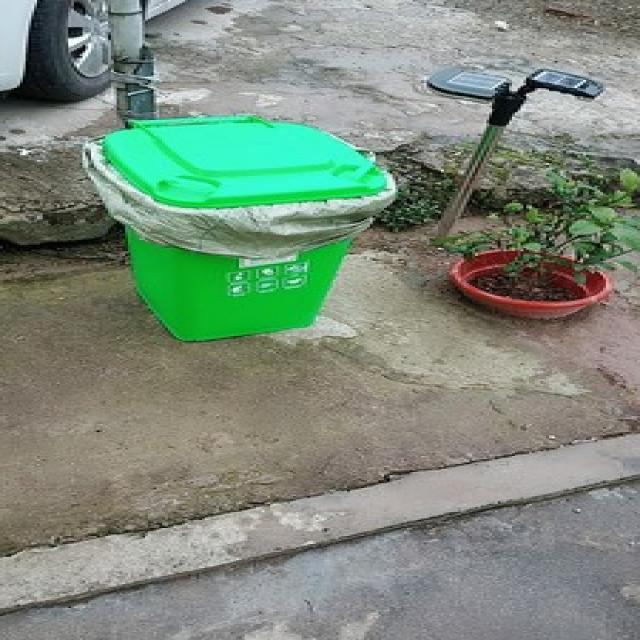car: (0, 0, 191, 107)
pole: (83, 110, 390, 341)
